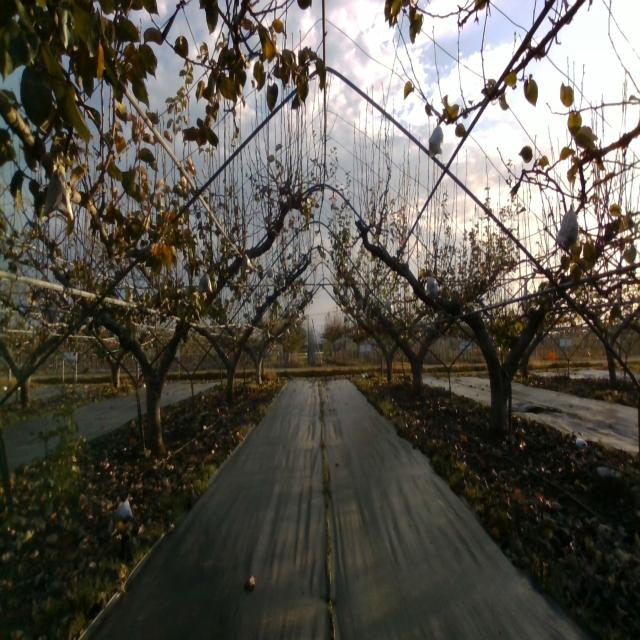pearbags: (42, 163, 74, 221), (556, 204, 578, 252), (429, 118, 443, 158), (198, 270, 212, 295), (424, 277, 439, 297), (241, 253, 254, 275)
